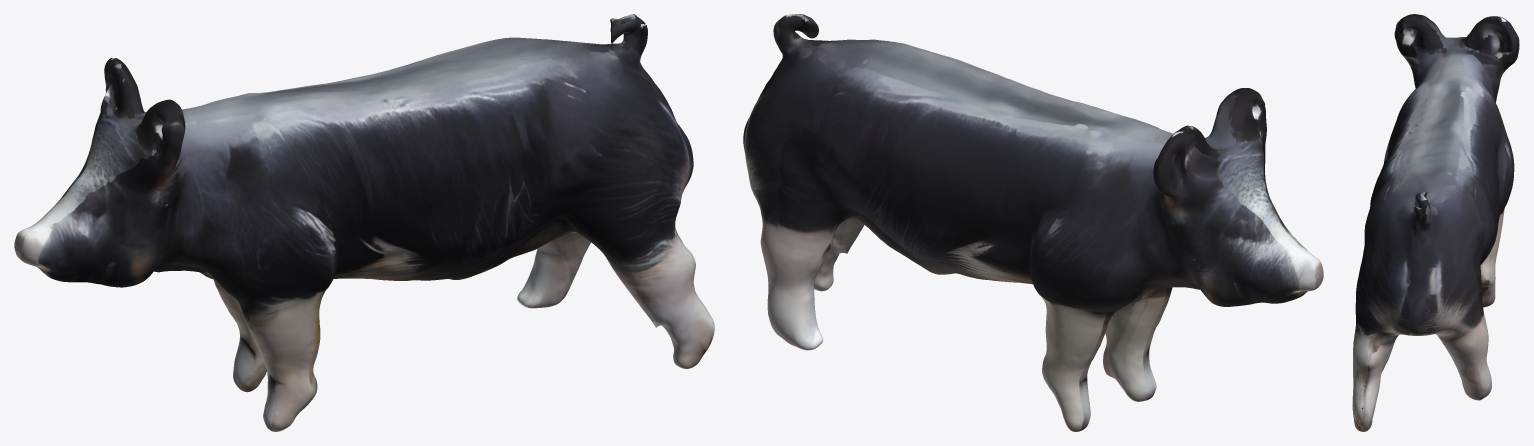
Rendered from bebe.glb.
3 renders of one model, left to right at view 1: azimuth 30°, elevation 25°; view 2: azimuth 150°, elevation 25°; view 3: azimuth 270°, elevation 25°, orthographic. The views are drawn at different scales.
Parts seen in each view (by area): view 1: mesh; view 2: mesh; view 3: mesh.
Part boxes in pixels (x1,y1,x2,y2): mesh: (14,14,714,431); mesh: (743,14,1323,431); mesh: (1352,14,1519,431).
Bounding box in the file's own units: 1.83 × 0.967 × 0.5876.
Materials: 1 (1 with a texture image).
